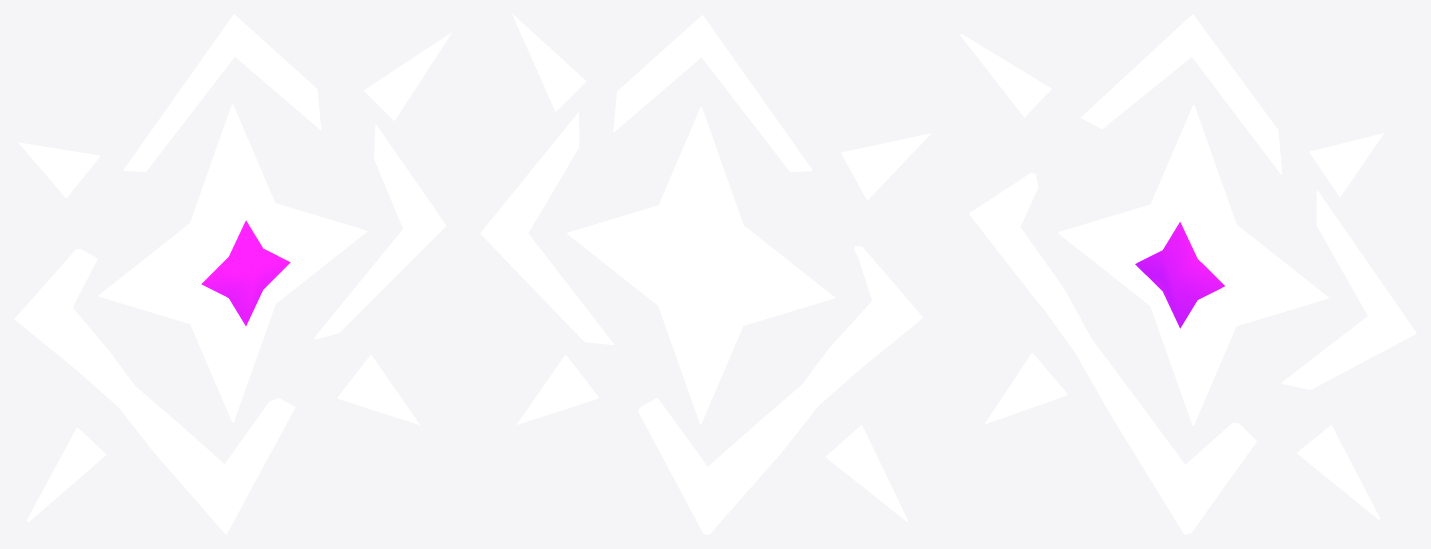
Rendered from Star.fbx.
3 views of the same model, side by side, from view 1: azimuth 30°, elevation 25°; view 2: azimuth 150°, elevation 25°; view 3: azimuth 330°, elevation 25° (orthographic).
Parts seen in each view (by area): view 1: Plane.034; view 2: Plane.034; view 3: Plane.034.
Part boxes in pixels (x1,y1,x2,y2): Plane.034: (14, 14, 451, 534); Plane.034: (480, 14, 931, 534); Plane.034: (960, 14, 1416, 534).
Size of the model in its own units: 195 by 219 by 25.34.
